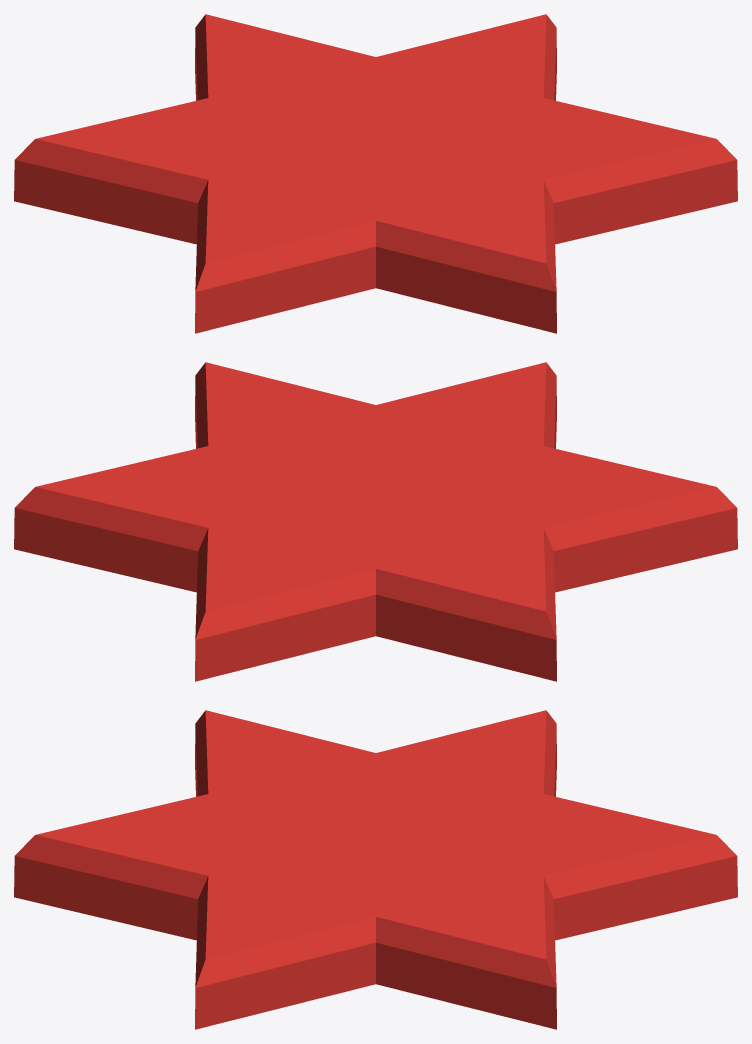
Rendered from SM_Gingerbread_Star_A.fbx.
The picture shows the model from 3 angles, top to bottom: view 1: azimuth 30°, elevation 25°; view 2: azimuth 150°, elevation 25°; view 3: azimuth 270°, elevation 25°; orthographic projection.
Parts seen in each view (by area): view 1: gingerbread-star-a; view 2: gingerbread-star-a; view 3: gingerbread-star-a.
Part boxes in pixels (x1,y1,x2,y2): gingerbread-star-a: (14,14,737,333); gingerbread-star-a: (14,362,737,681); gingerbread-star-a: (14,710,737,1029).
Size of the model in its own units: 0.0597 by 0.00656 by 0.069.
